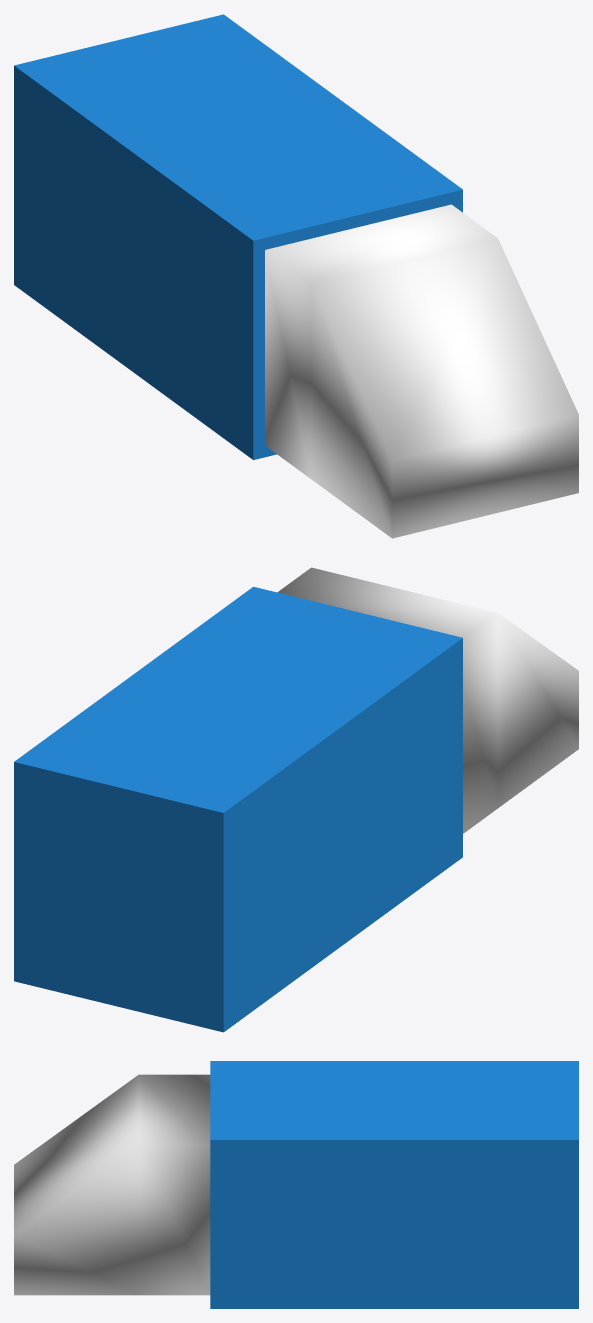
File: Eraser.fbx
The picture shows the model from 3 angles, top to bottom: view 1: azimuth 30°, elevation 25°; view 2: azimuth 150°, elevation 25°; view 3: azimuth 270°, elevation 25°; orthographic projection. The views are drawn at different scales.
Parts seen in each view (by area): view 1: Eraser; view 2: Eraser; view 3: Eraser.
Boxes of the visible parts, box(x1,y1,x2,y2) form: Eraser: box(14, 14, 578, 538); Eraser: box(14, 567, 578, 1032); Eraser: box(14, 1061, 578, 1308).
Bounding box in the file's own units: 2.49 × 2.49 × 7.54.
